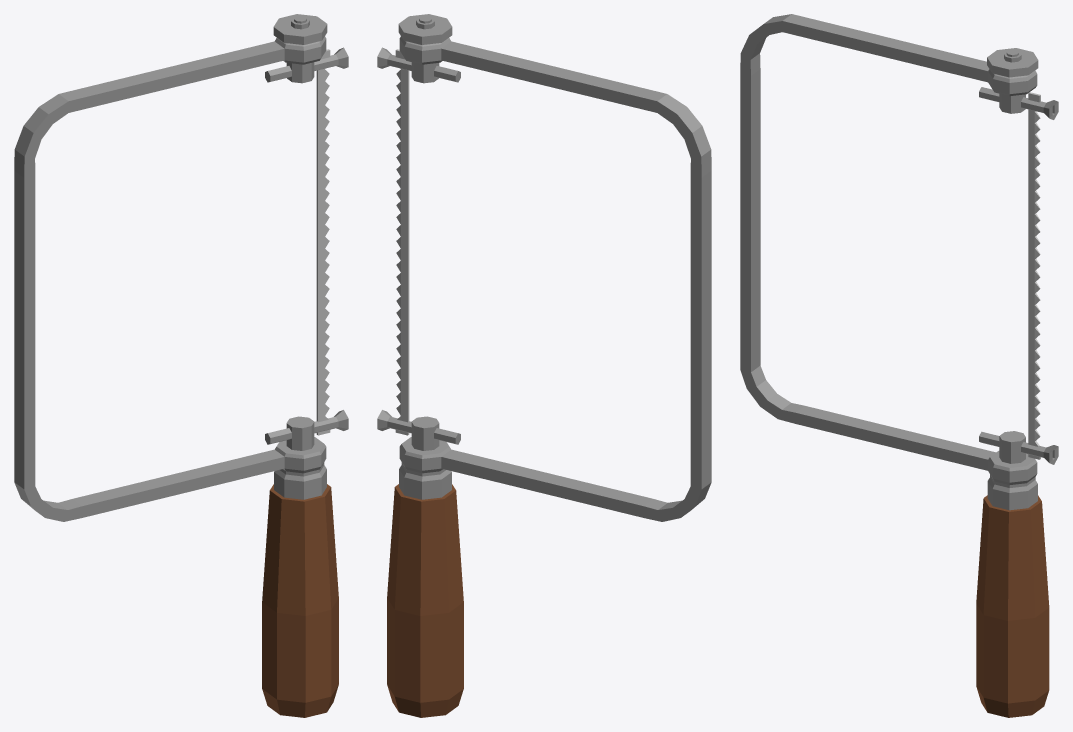
Rendered from copingsaw01.obj.
3 views of the same model, side by side, from view 1: azimuth 30°, elevation 25°; view 2: azimuth 150°, elevation 25°; view 3: azimuth 330°, elevation 25° (orthographic). The views are drawn at different scales.
Parts seen in each view (by area): view 1: Cylinder; view 2: Cylinder; view 3: Cylinder.
Part boxes in pixels (x1,y1,x2,y2): Cylinder: [14, 14, 348, 717]; Cylinder: [377, 14, 711, 717]; Cylinder: [740, 14, 1058, 717].
Size of the model in its own units: 0.1579 by 0.3185 by 0.0302.
1 material, 1 textured.
